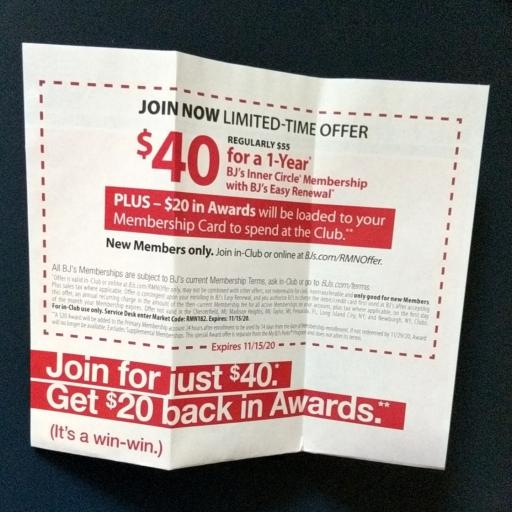paper: (3, 7, 500, 512)
